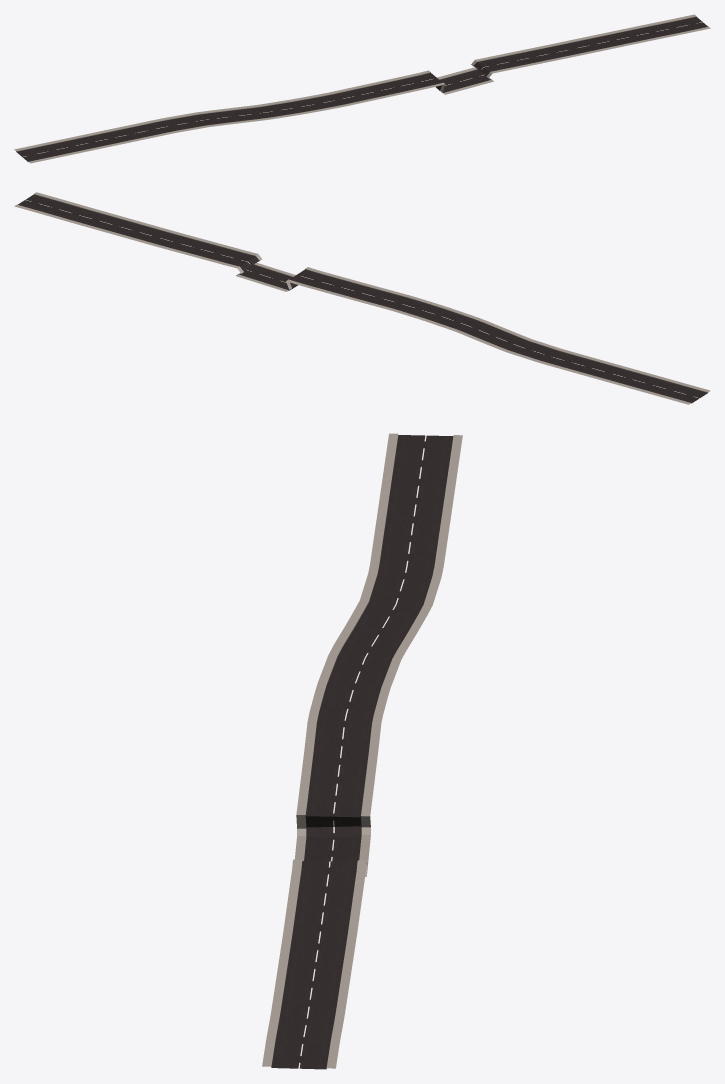
File: small_road.glb
3 renders of one model, top to bottom at view 1: azimuth 30°, elevation 25°; view 2: azimuth 150°, elevation 25°; view 3: azimuth 270°, elevation 25°, orthographic. The views are drawn at different scales.
Parts seen in each view (by area): view 1: small_road; view 2: small_road; view 3: small_road.
Boxes of the visible parts, x1=… form: small_road: x1=14, y1=14, x2=710, y2=163; small_road: x1=14, y1=192, x2=710, y2=404; small_road: x1=262, y1=433, x2=462, y2=1069.
Bounding box in the file's own units: 789 × 13.06 × 105.
Materials: 2 (1 with a texture image).
